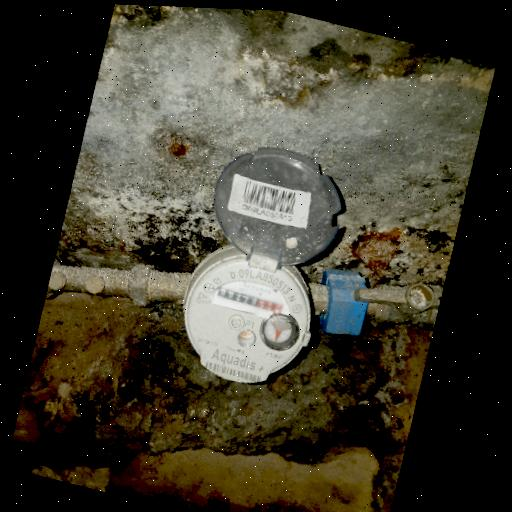0: (216, 286, 227, 298), (225, 288, 236, 300), (250, 296, 260, 307)
1: (264, 301, 275, 312)
2: (242, 294, 253, 306)
5: (257, 298, 267, 309)
6: (233, 291, 244, 304)
7: (271, 303, 282, 313)
border_water_meter_number: (214, 284, 284, 318)
